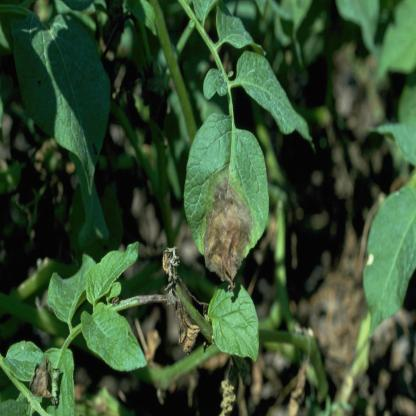potato leaf early blight: (179, 112, 265, 283)
